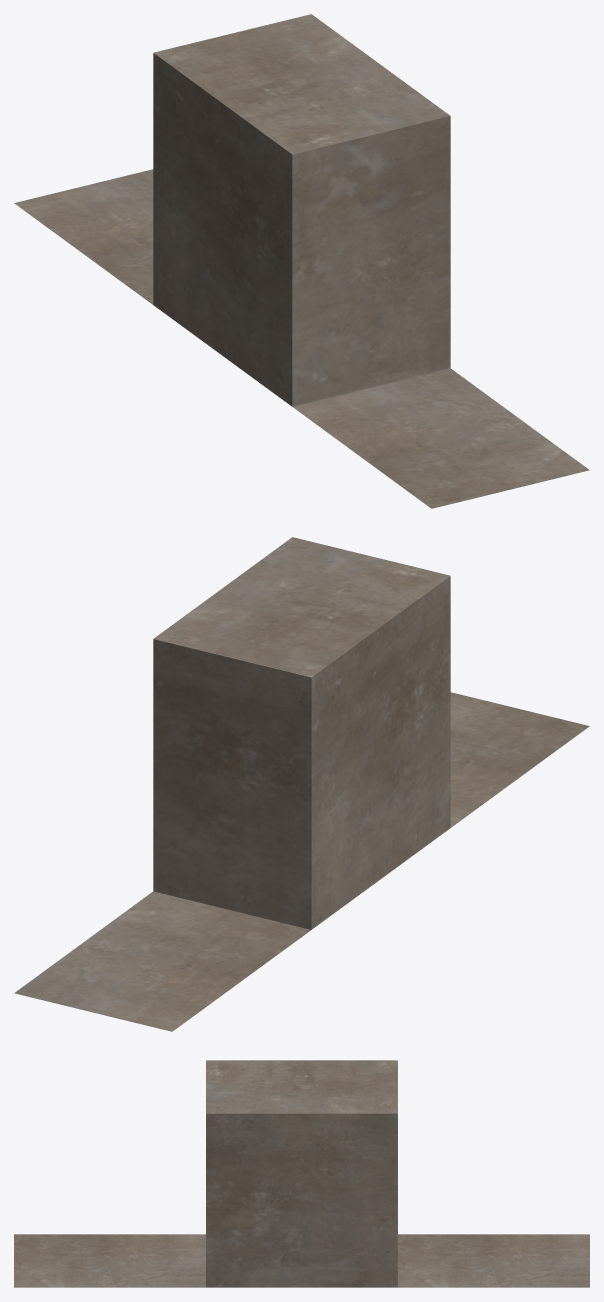
File: StoneWallTop.fbx
The picture shows the model from 3 angles, top to bottom: view 1: azimuth 30°, elevation 25°; view 2: azimuth 150°, elevation 25°; view 3: azimuth 270°, elevation 25°; orthographic projection. The views are drawn at different scales.
Parts seen in each view (by area): view 1: CastleWall.016; view 2: CastleWall.016; view 3: CastleWall.016.
Boxes of the visible parts, x1,y1,x2,y2 form: CastleWall.016: (14,14,589,508); CastleWall.016: (14,537,589,1031); CastleWall.016: (14,1060,589,1287).
Size of the model in its own units: 0.4377 by 0.6667 by 2.
